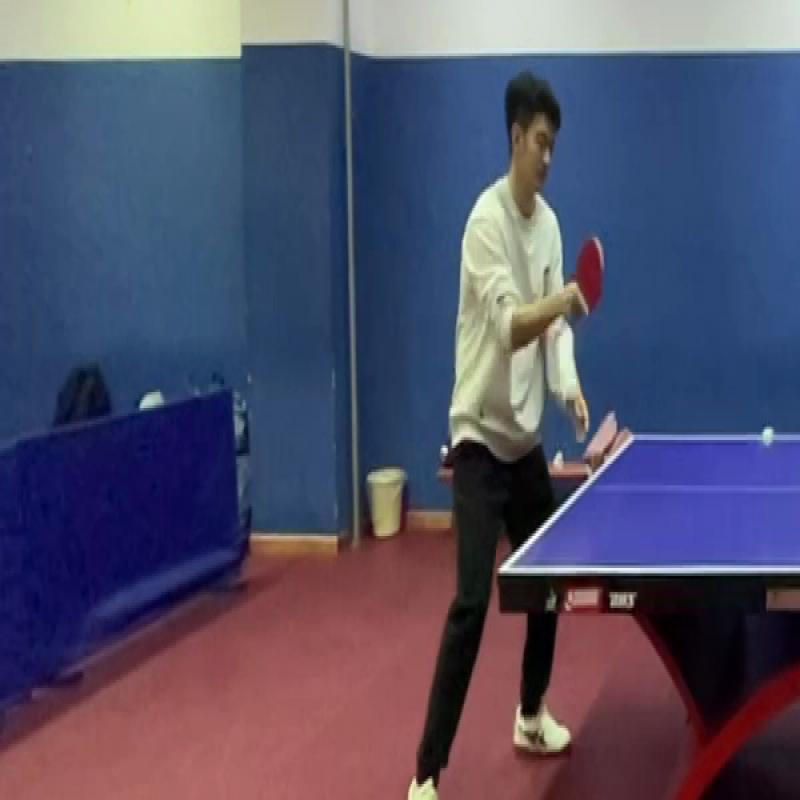bats: (565, 229, 610, 327)
